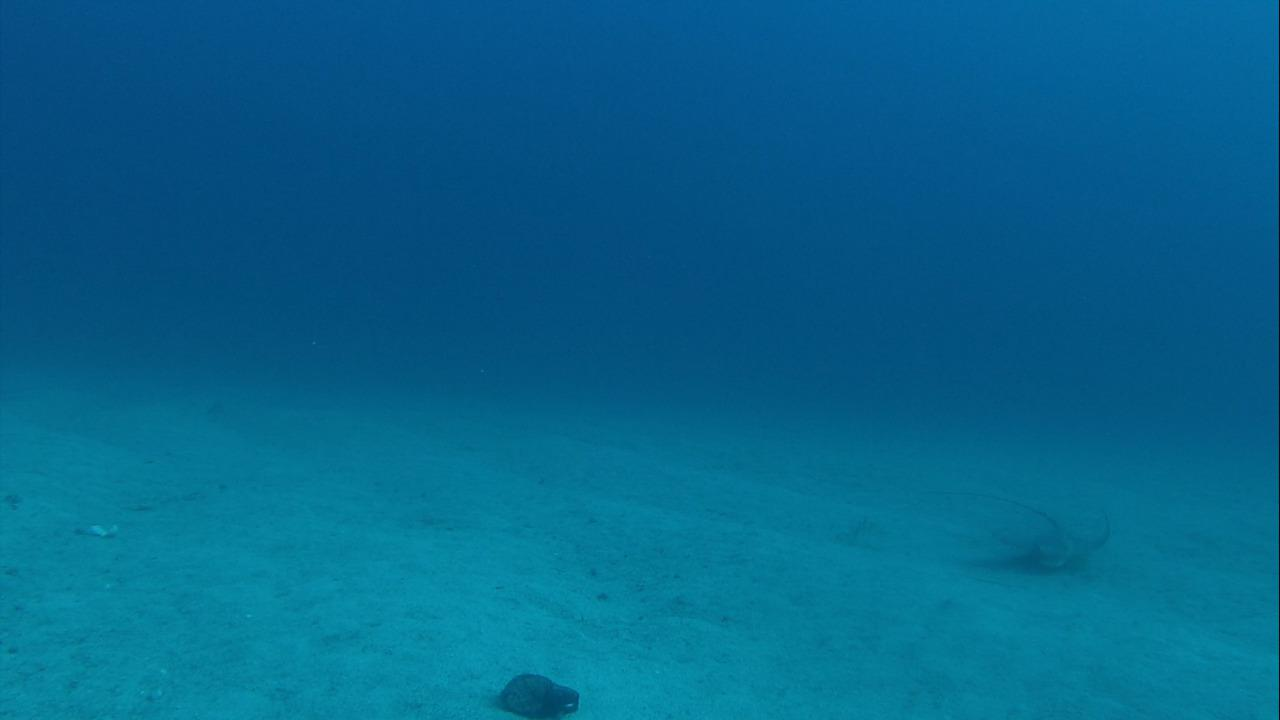myliobatis: (953, 477, 1123, 584)
